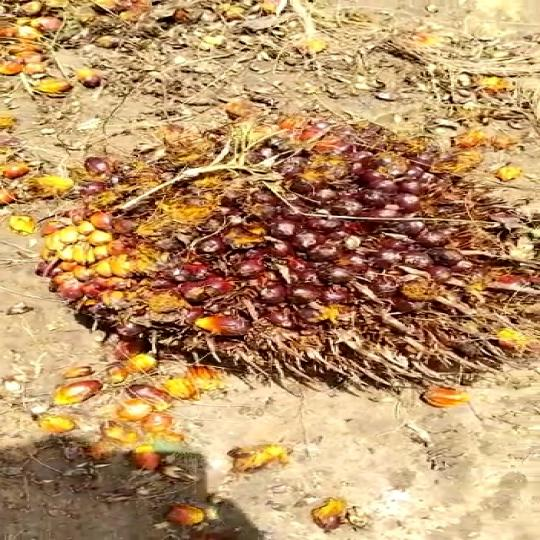masak: (28, 96, 540, 414)
